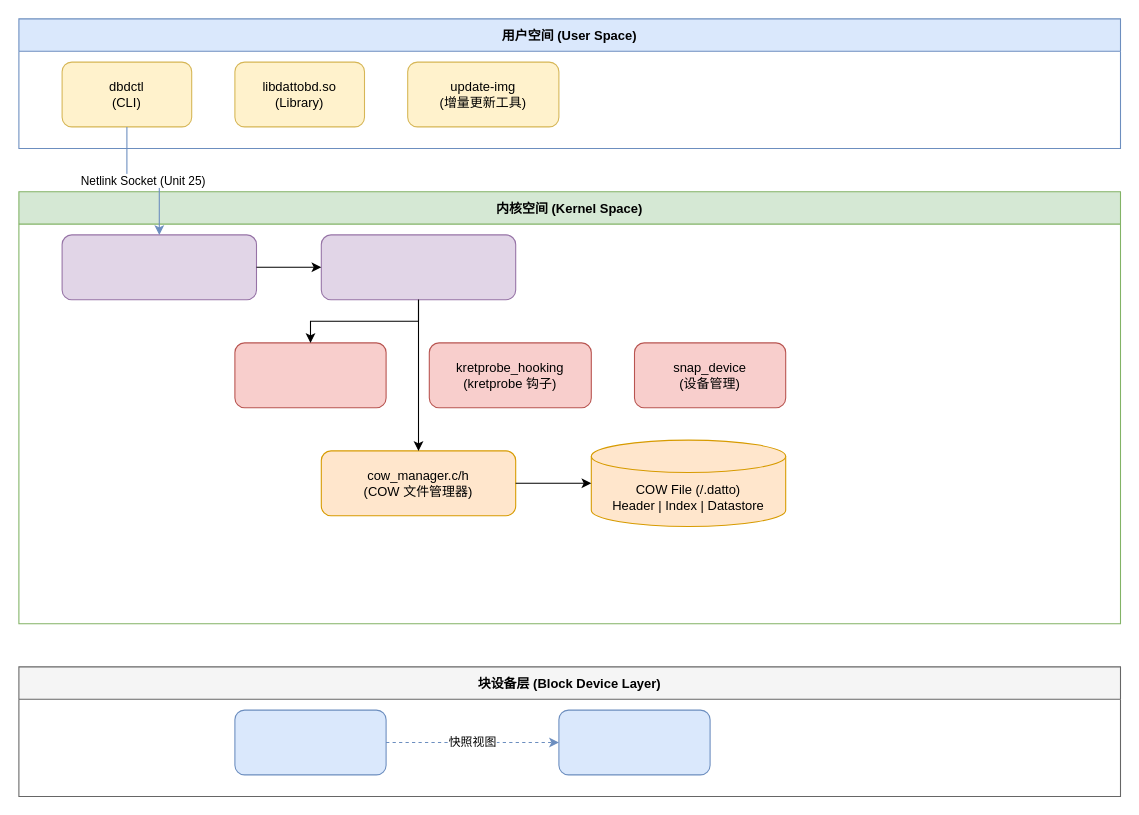
Some shapes in this 1139 by 815 pixel diagram are drawn without their labels. Each missing label, with the centre of its shape:
/dev/datto0 (只读快照视图): point 310,742
ftrace_hooking (ftrace 钩子): point 310,375
netlink_handlers.c (Netlink 消息处理): point 158,267
tracer.c/h (核心追踪管理器): point 418,267
原始块设备 (/dev/sda1): point 634,742
